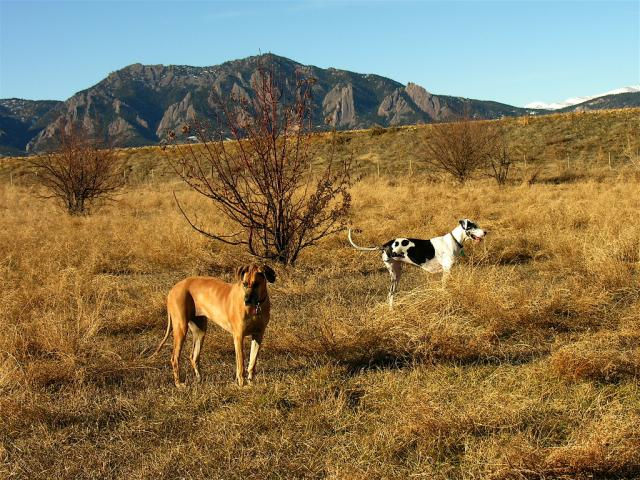Dog: (149, 262, 279, 392), (350, 217, 487, 310)
